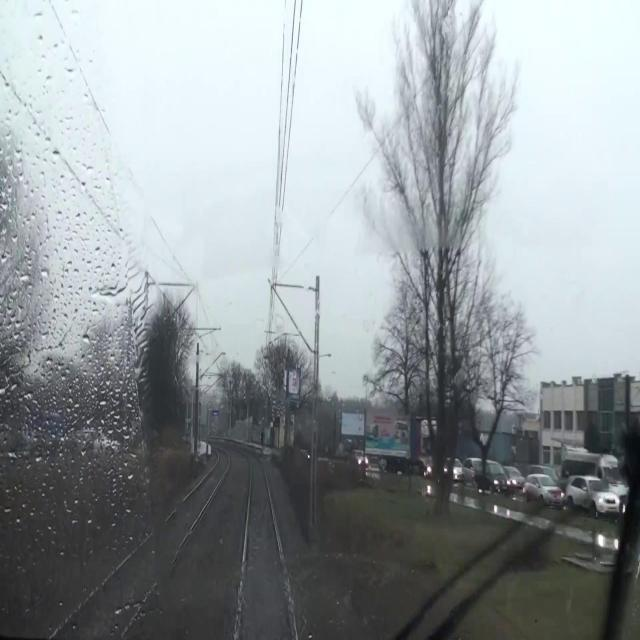rail-track: (56, 453, 226, 639), (240, 460, 292, 639)
